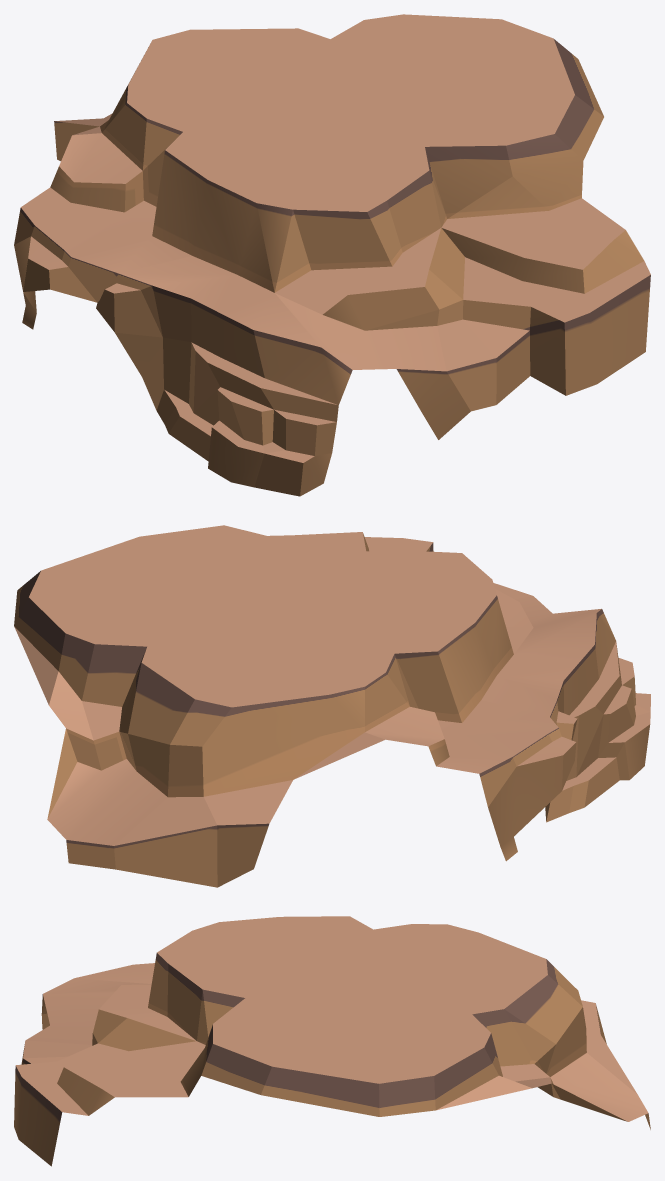
File: BO_CaveRoof_01.fbx
The picture shows the model from 3 angles, top to bottom: view 1: azimuth 30°, elevation 25°; view 2: azimuth 150°, elevation 25°; view 3: azimuth 270°, elevation 25°; orthographic projection. The views are drawn at different scales.
Visible parts, largest first — view 1: polySurface7; view 2: polySurface7; view 3: polySurface7.
Boxes of the visible parts, x1=… form: polySurface7: x1=14, y1=14, x2=650, y2=496; polySurface7: x1=14, y1=525, x2=650, y2=887; polySurface7: x1=14, y1=916, x2=650, y2=1166.
Size of the model in its own units: 3621 by 1272 by 4155.
1 material, 1 textured.
